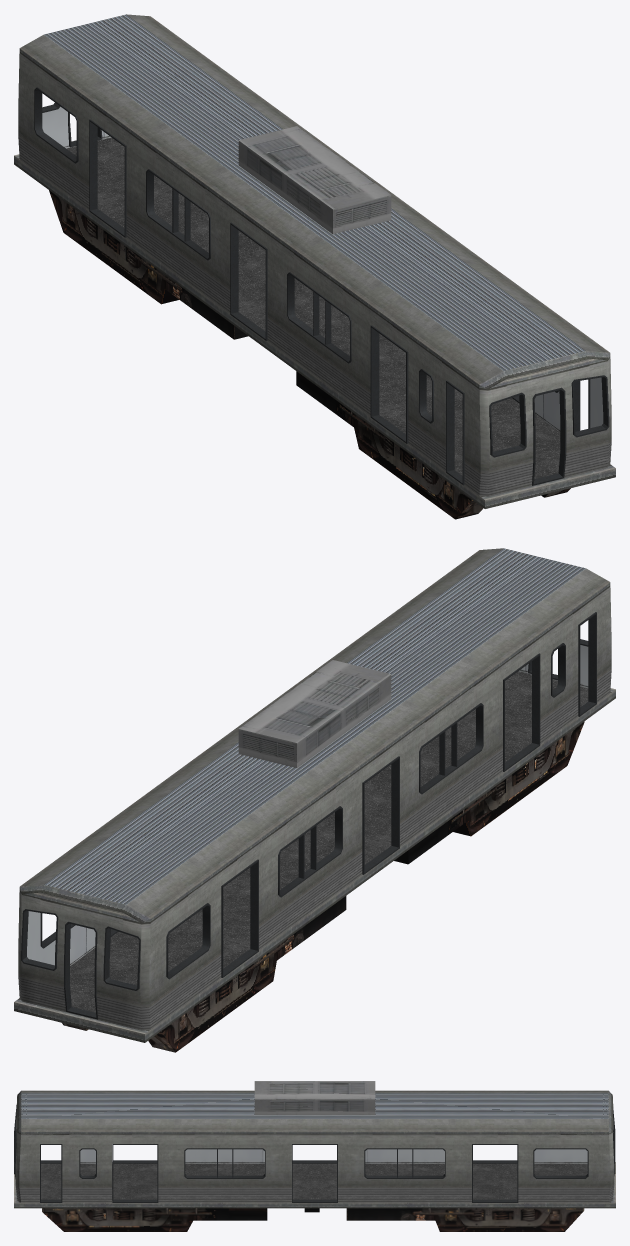
File: metro_train.glb
The picture shows the model from 3 angles, top to bottom: view 1: azimuth 30°, elevation 25°; view 2: azimuth 150°, elevation 25°; view 3: azimuth 270°, elevation 25°; orthographic projection. The views are drawn at different scales.
Visible parts, largest first — view 1: subway_car; view 2: subway_car; view 3: subway_car.
Boxes of the visible parts, left/top/right/bottom form: subway_car: left=14, top=14, right=615, bottom=519; subway_car: left=14, top=548, right=615, bottom=1052; subway_car: left=14, top=1081, right=615, bottom=1231.
Size of the model in its own units: 3.83 by 5.33 by 23.39.
8 materials, 8 textured.
